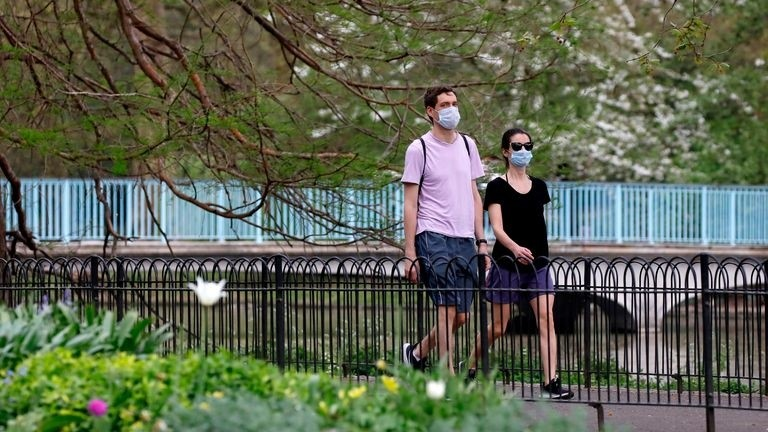face_with_mask: (424, 83, 466, 131), (501, 124, 537, 172)
